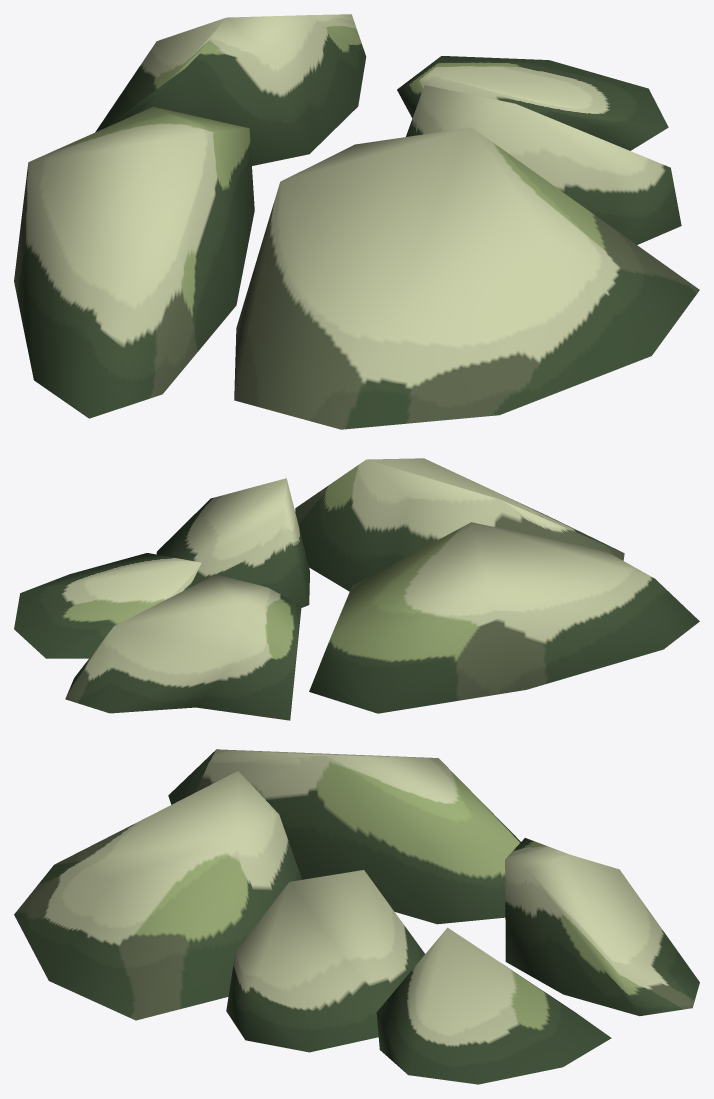
File: Rock 1x 1 6_preview_3DS_simplified.glb
3 renders of one model, top to bottom at view 1: azimuth 30°, elevation 25°; view 2: azimuth 150°, elevation 25°; view 3: azimuth 270°, elevation 25°, orthographic. The views are drawn at different scales.
Parts seen in each view (by area): view 1: Marine Park Empire model; view 2: Marine Park Empire model; view 3: Marine Park Empire model.
Boxes of the visible parts, bbox=[...] form: Marine Park Empire model: bbox=[14, 14, 699, 429]; Marine Park Empire model: bbox=[14, 458, 699, 720]; Marine Park Empire model: bbox=[14, 749, 699, 1084].
Size of the model in its own units: 31.2 by 6.29 by 31.2.
1 material, 1 textured.
